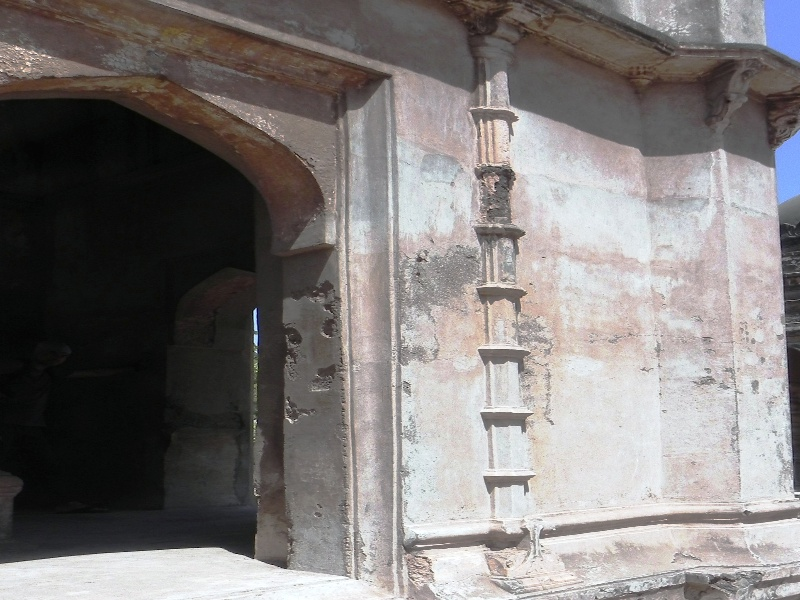Spalling: (399, 242, 479, 310), (290, 274, 343, 315), (481, 166, 515, 225), (282, 321, 302, 369), (285, 395, 315, 423), (319, 316, 345, 342), (310, 366, 336, 392)
